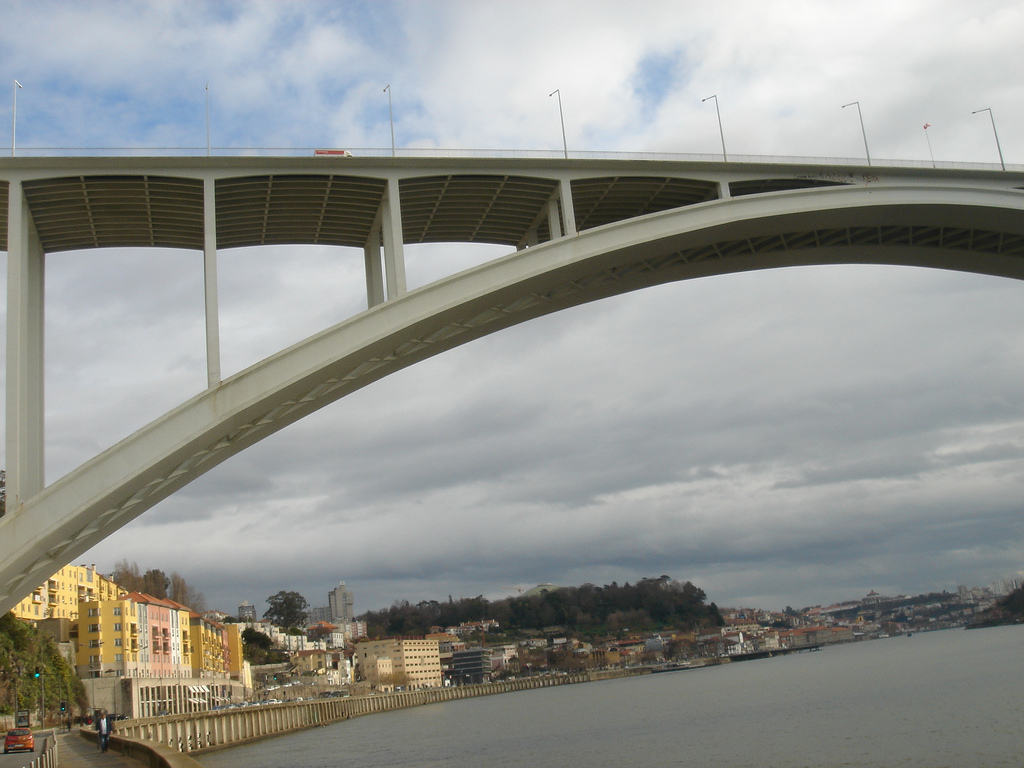arrabida: (0, 152, 1023, 619)
